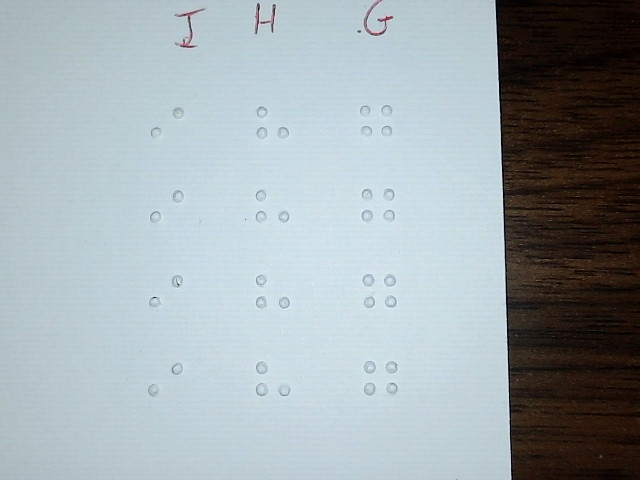G: (358, 94, 395, 159), (359, 177, 396, 242), (361, 265, 398, 330), (362, 350, 399, 415)
H: (253, 95, 290, 160), (253, 179, 290, 244), (254, 265, 291, 330), (255, 351, 292, 416)
I: (149, 97, 186, 162), (149, 181, 186, 246), (146, 353, 183, 418)
